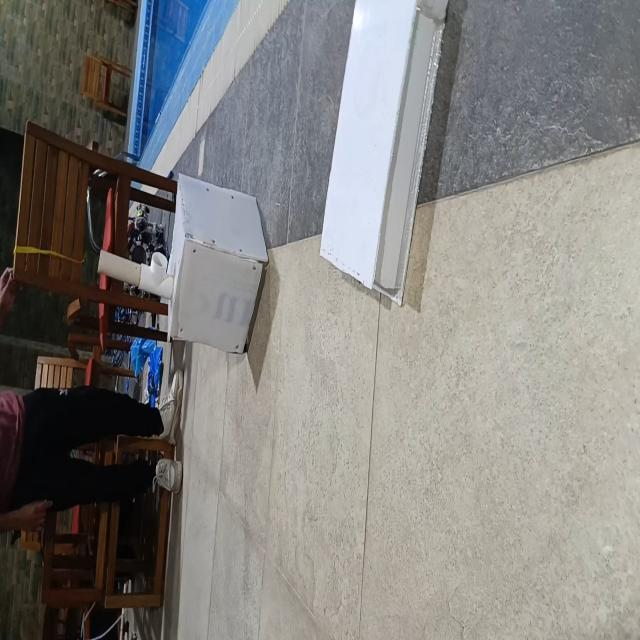Cube: (166, 171, 269, 355)
Cuboid: (318, 1, 446, 307)
